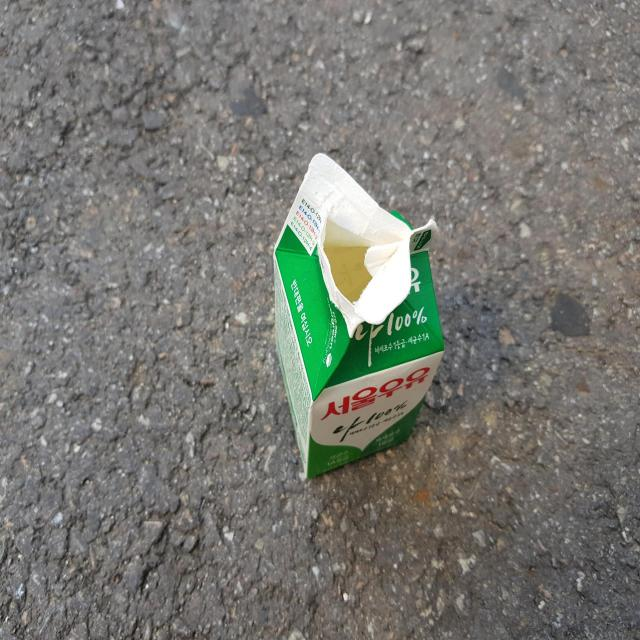paperpack: (273, 153, 445, 478)
